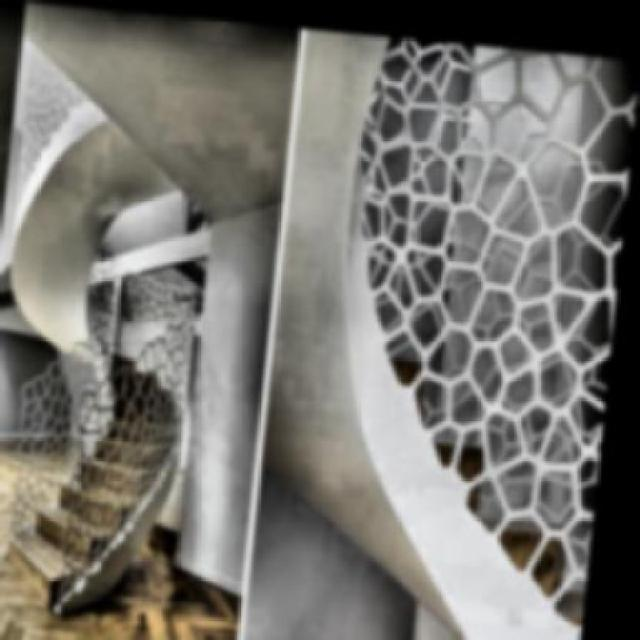stair: (15, 322, 206, 624)
